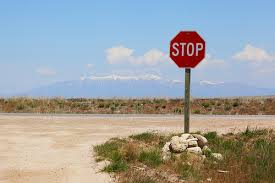stop_sign: (169, 31, 207, 69)
